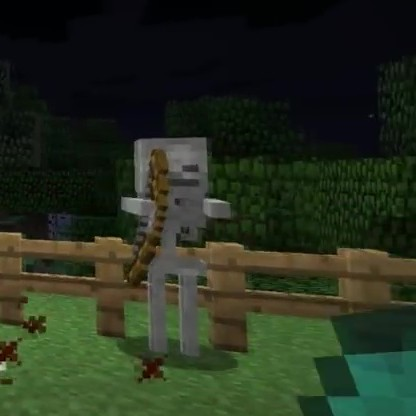skeleton: (126, 135, 220, 354)
